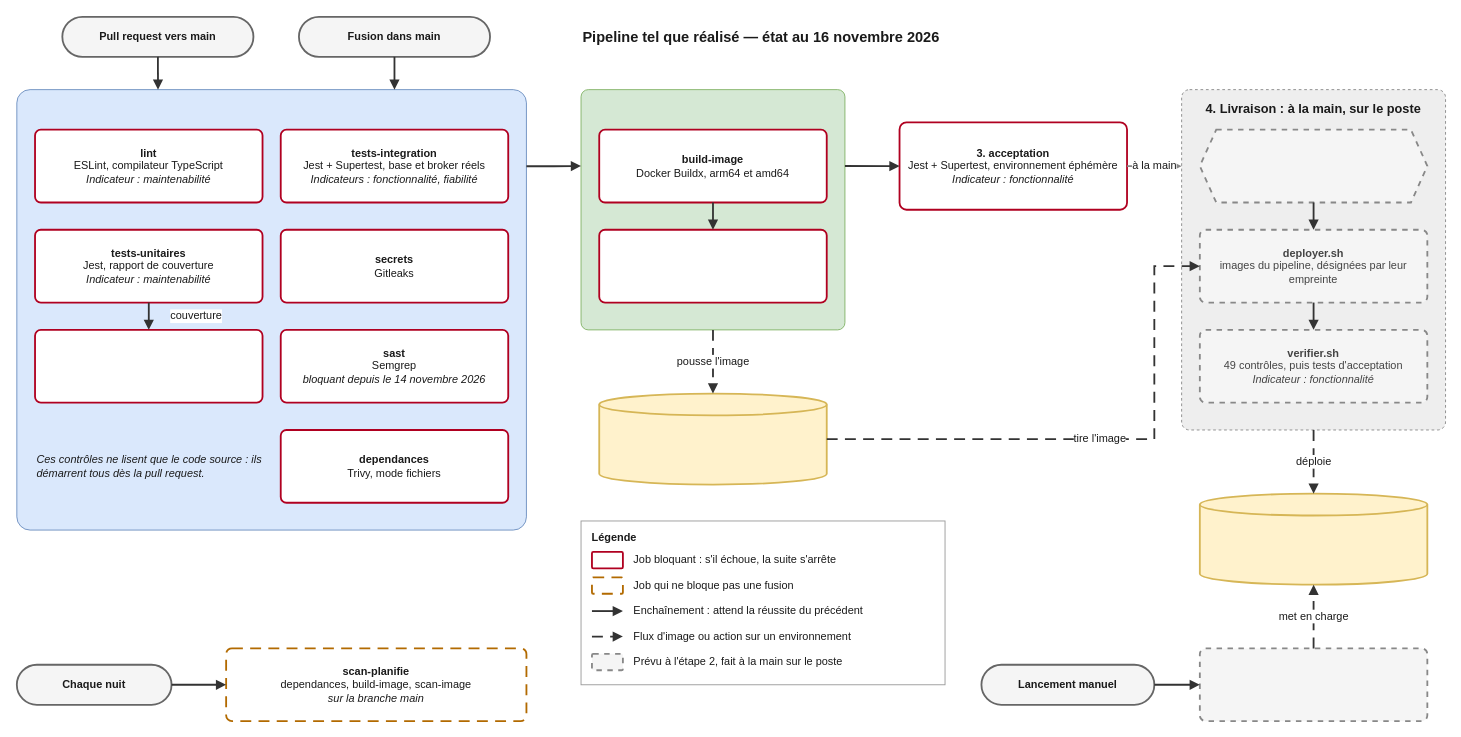
Some shapes in this 1461 by 737 pixel diagram are drawn without their labels. Here are the shapes that lost their labels. From the top down, the box of each, then its label:
(1198, 128, 1428, 203): Validation humaine
(580, 89, 845, 330): 2. Image de conteneur
(598, 228, 827, 303): scan-image Trivy, mode image
(16, 89, 526, 530): 1. Contrôles du code source, lancés en parallèle
(34, 329, 263, 403): qualite SonarQube Cloud, quality gate Indicateurs : maintenabilité, fiabilité
(598, 392, 827, 485): Registre ghcr.io Image étiquetée par le SHA du commit
(1198, 492, 1428, 585): Cluster k3d du poste environnement distant non commandé
(1198, 647, 1428, 722): test de charge k6, lancé sur le poste Indicateurs : performance, fiabilité
